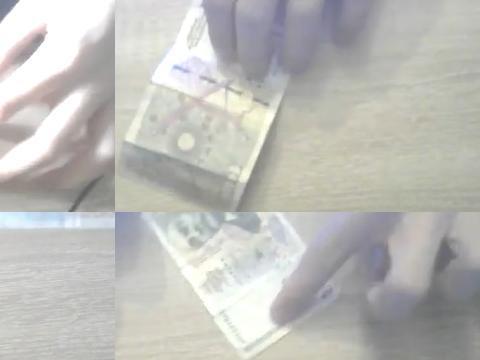10leva: (117, 4, 285, 212), (142, 212, 308, 360)
